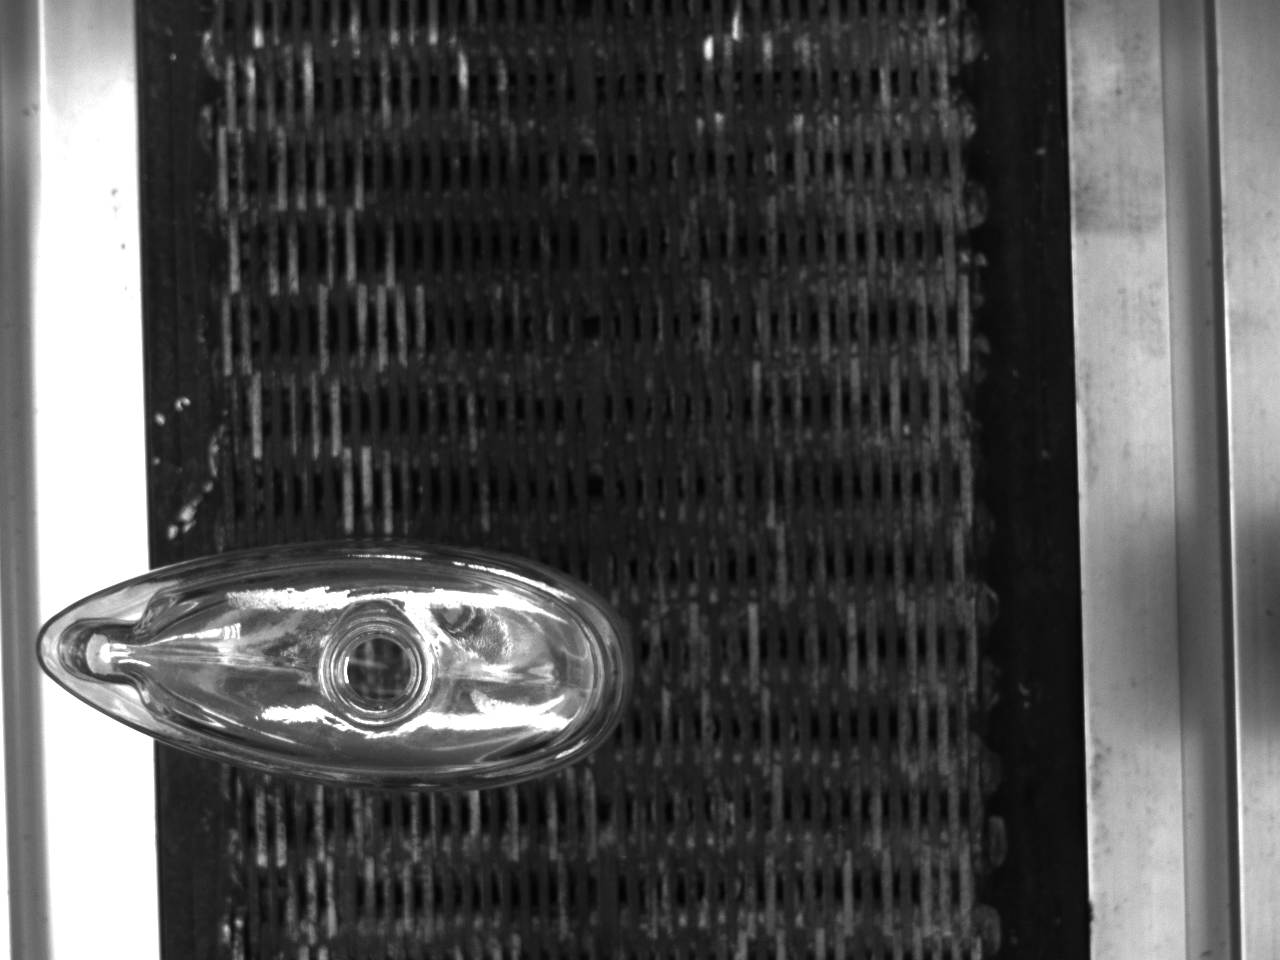bottleneck: (322, 618, 433, 723)
